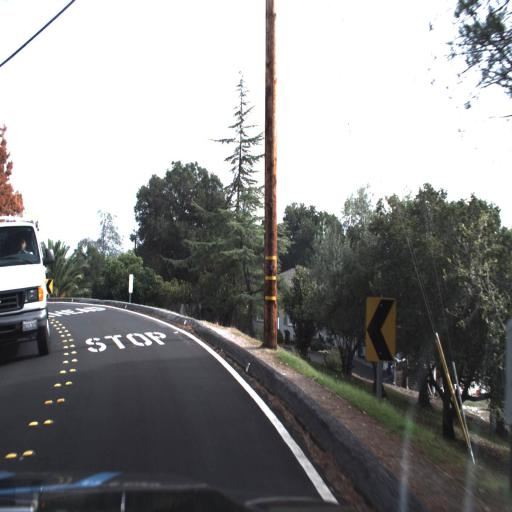car: (0, 216, 54, 356)
